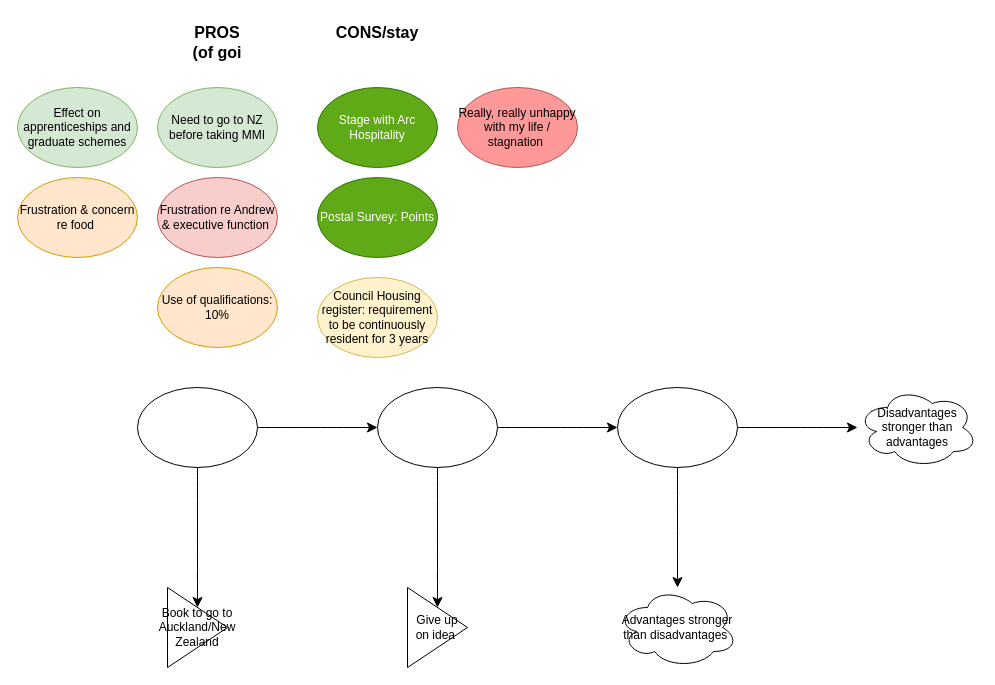
Some shapes in this 995 by 685 pixel diagram are drawn without their labels. Here are the shapes that lost their labels. From the top down, the centre of each, then its label:
At (x=197, y=427): "Are any of the pros a deal breaker?".
At (x=437, y=427): "Are any of the cons a deal breaker?".
At (x=677, y=427): "Do the pros outweigh the cons, or the cons outweigh the pros?".
